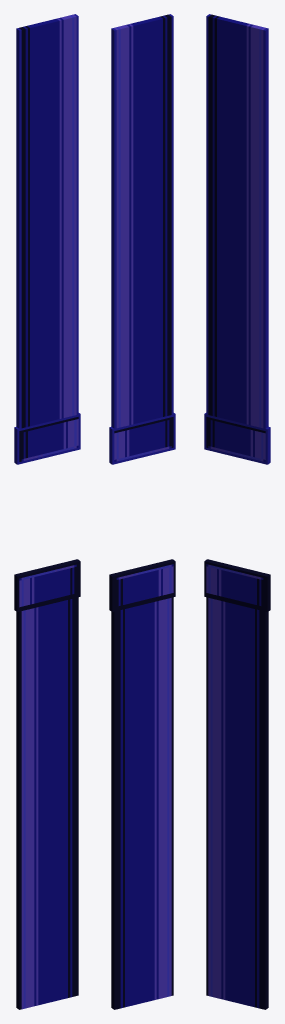
Rendered from pipe.glb.
3 views of the same model, side by side, from view 1: azimuth 30°, elevation 25°; view 2: azimuth 210°, elevation 25°; view 3: azimuth 330°, elevation 25° (orthographic).
Parts seen in each view (by area): view 1: Cube.005, Cube.026, Cube.002, Cube.011, Cube.004, Cube.001, Cube.029, Cube.006, Cube.003, Cube.012; view 2: Cube.005, Cube.026, Cube.002, Cube.011, Cube.004, Cube.001, Cube.006, Cube.029, Cube.003, Cube.012; view 3: Cube.005, Cube.026, Cube.002, Cube.011, Cube.004, Cube.001, Cube.006, Cube.029, Cube.003, Cube.012.
Boxes of the visible parts, x1,y1,x2,y2 form: Cube.005: (21, 17, 78, 461); Cube.026: (19, 564, 76, 1006); Cube.002: (23, 14, 78, 460); Cube.011: (19, 565, 74, 1009); Cube.004: (14, 559, 80, 1009); Cube.001: (14, 14, 80, 464); Cube.029: (19, 564, 78, 997); Cube.006: (19, 26, 78, 461); Cube.003: (38, 15, 76, 457); Cube.012: (21, 569, 59, 1008); Cube.005: (114, 15, 171, 461); Cube.026: (116, 564, 173, 1008); Cube.002: (114, 24, 169, 461); Cube.011: (118, 564, 173, 999); Cube.004: (109, 559, 175, 1009); Cube.001: (109, 14, 175, 464); Cube.006: (114, 14, 173, 447); Cube.029: (114, 578, 173, 1009); Cube.003: (116, 27, 154, 460); Cube.012: (133, 565, 171, 996); Cube.005: (208, 15, 265, 461); Cube.026: (206, 564, 263, 1008); Cube.002: (210, 24, 265, 461); Cube.011: (206, 564, 261, 999); Cube.004: (204, 559, 270, 1009); Cube.001: (204, 14, 270, 464); Cube.006: (206, 14, 265, 447); Cube.029: (206, 578, 265, 1009); Cube.003: (225, 27, 263, 460); Cube.012: (208, 565, 246, 996).
Bounding box in the file's own units: 3 × 44.26 × 0.25.
